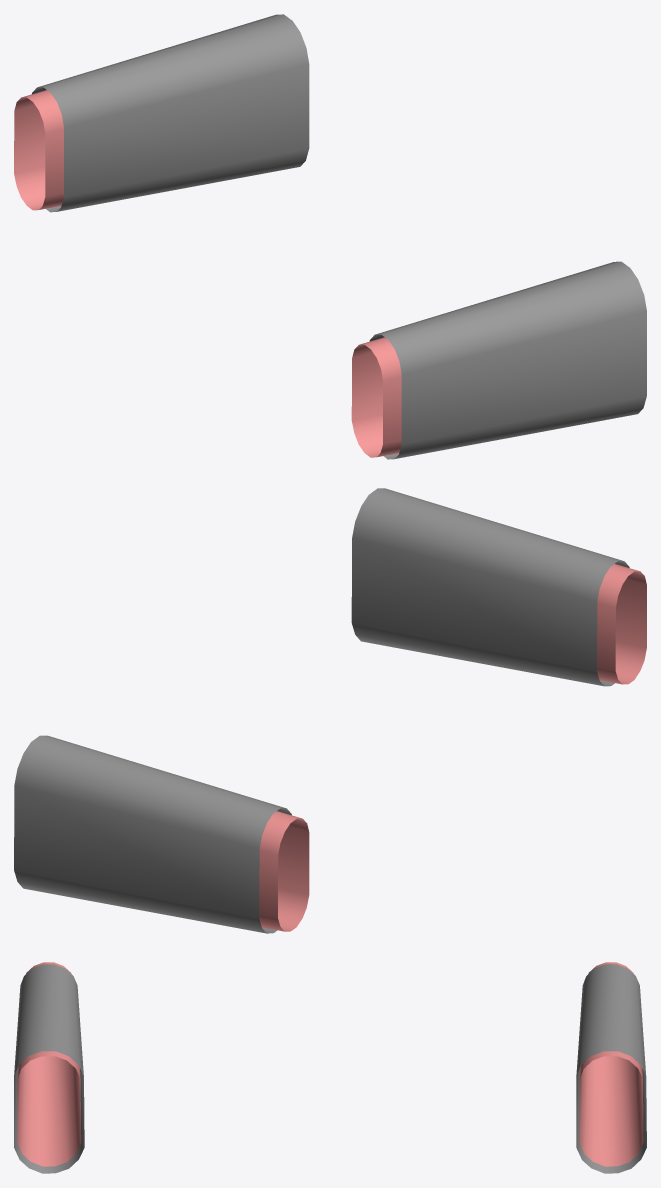
Rendered from OctaneAmbientBoost_SM.glb.
3 renders of one model, top to bottom at view 1: azimuth 30°, elevation 25°; view 2: azimuth 150°, elevation 25°; view 3: azimuth 270°, elevation 25°, orthographic. The views are drawn at different scales.
Visible parts, largest first — view 1: OctaneAmbientBoost_SM; view 2: OctaneAmbientBoost_SM; view 3: OctaneAmbientBoost_SM.
Boxes of the visible parts, x1=… form: OctaneAmbientBoost_SM: x1=14, y1=14, x2=646, y2=459; OctaneAmbientBoost_SM: x1=14, y1=488, x2=646, y2=933; OctaneAmbientBoost_SM: x1=14, y1=962, x2=646, y2=1173.
Size of the model in its own units: 0.1296 by 0.0703 by 0.3302.
